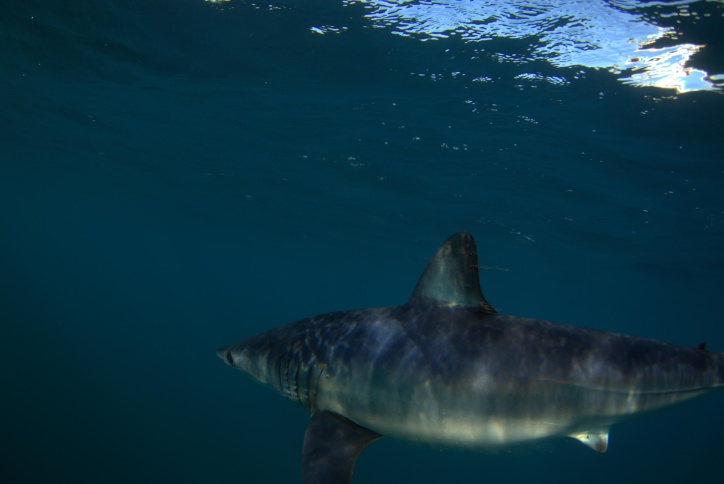Mako: (190, 235, 724, 484)
